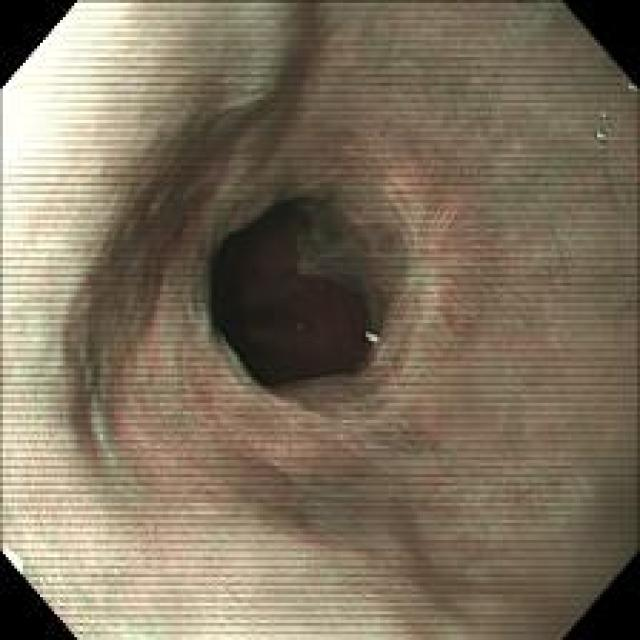color misalignment: (359, 328, 395, 366), (590, 125, 616, 151)
contrast: (210, 194, 406, 398)
saturation: (2, 2, 140, 216), (1, 539, 29, 569)
